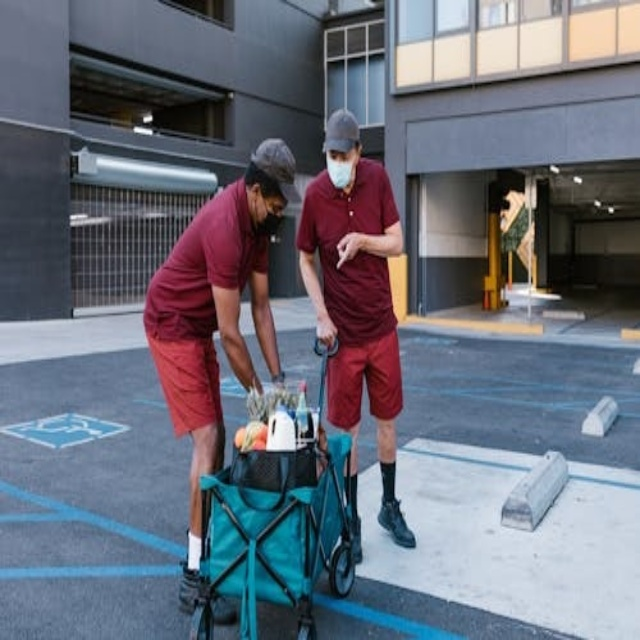Mascara: (326, 154, 356, 189), (262, 205, 284, 242), (500, 215, 508, 230)
Sin_guantes: (334, 227, 361, 267), (312, 313, 337, 354)
